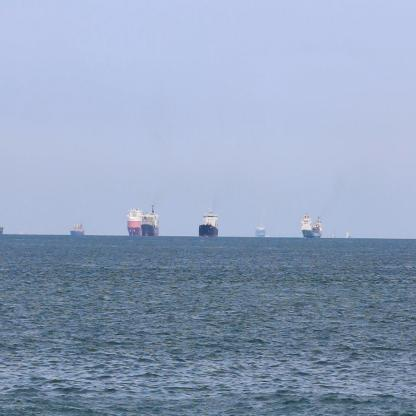Container Ship: (198, 204, 220, 236), (142, 200, 160, 238), (299, 213, 324, 240), (126, 203, 141, 238), (70, 218, 85, 236), (254, 223, 267, 238), (343, 227, 352, 239), (330, 229, 336, 240)
